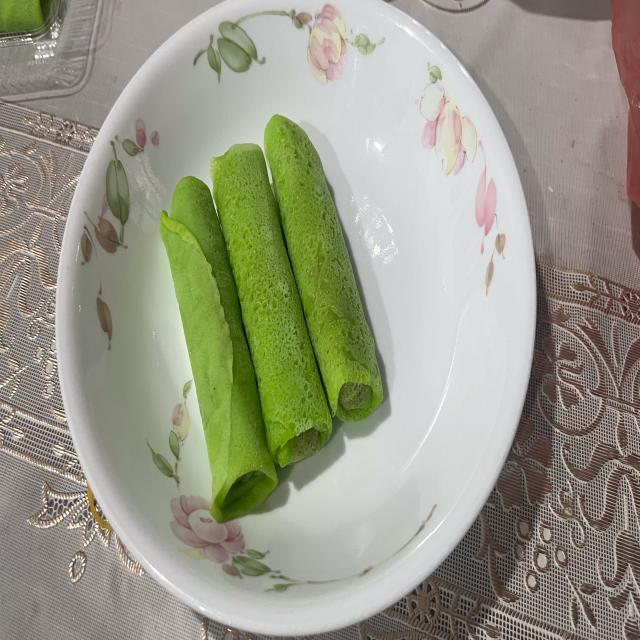Kuih-Ketayap: (160, 176, 278, 524), (211, 144, 331, 467), (265, 116, 382, 420)
